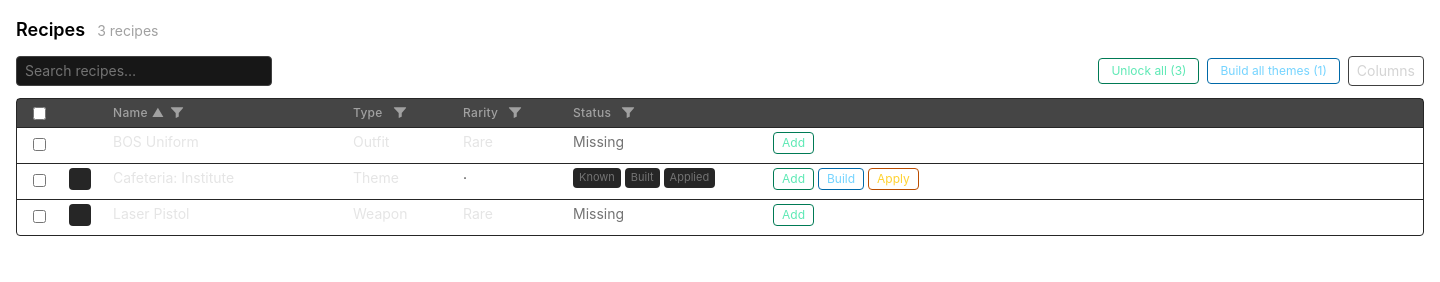
Test case: RecipesView › detail side panel › a theme recipe panel offers no jump (themes have no catalog item)
Click the text "Cafeteria: Institute" at (174, 178), box [113,169,234,186]
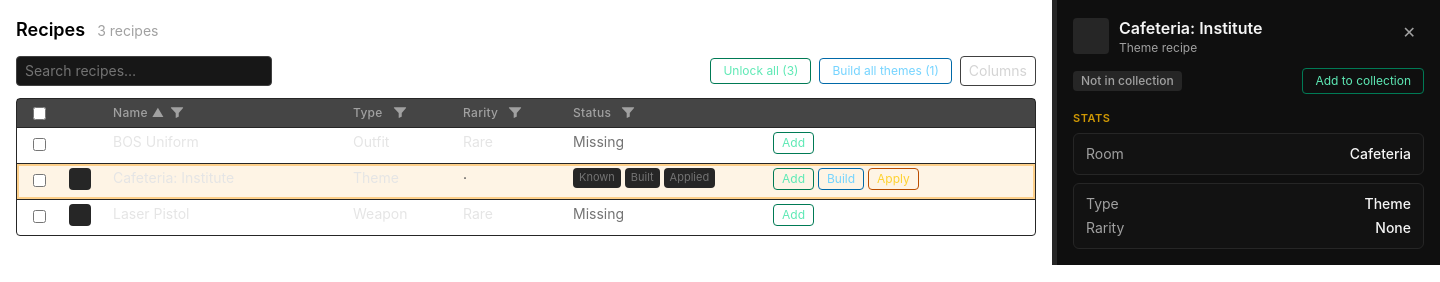
Expected: the button named "Close recipe panel" is shown, [1395,16,1424,48]
